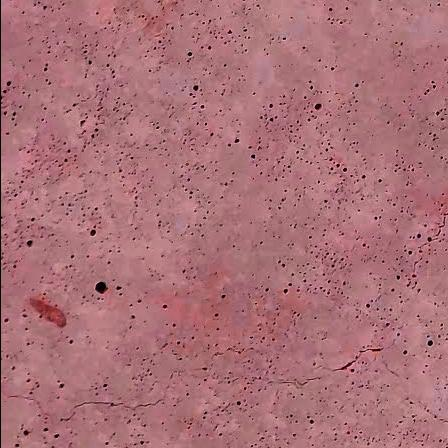crack: (2, 340, 266, 439), (379, 210, 447, 425), (308, 331, 382, 387), (265, 376, 323, 390)
